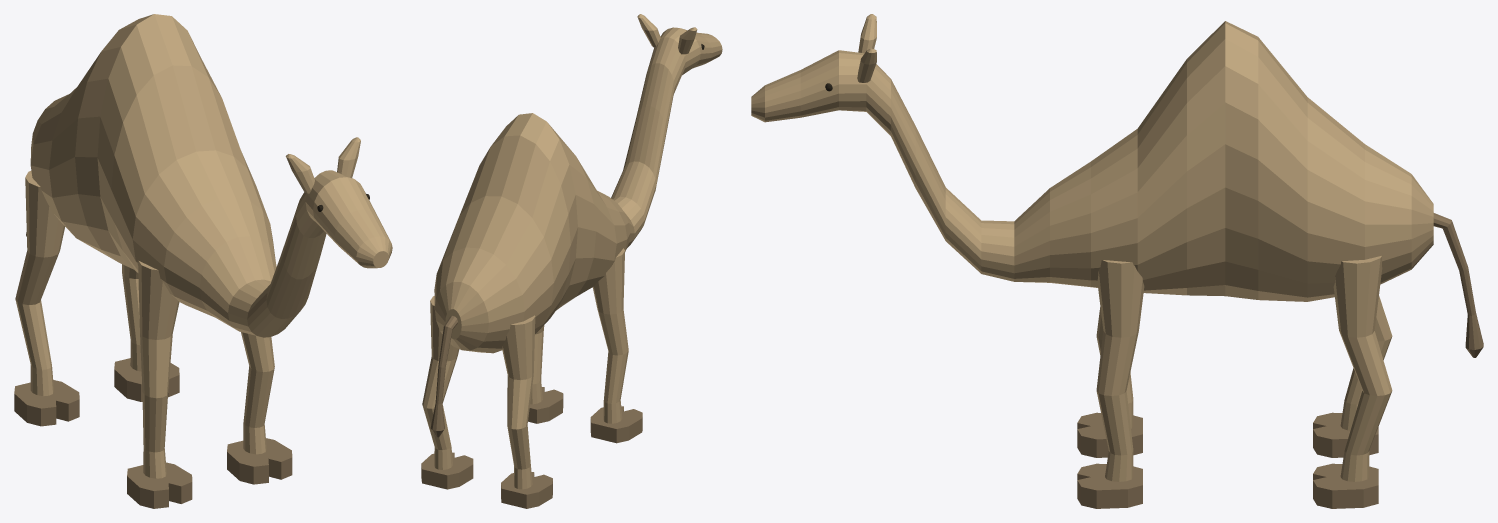
3 views of the same model, side by side, from view 1: azimuth 30°, elevation 25°; view 2: azimuth 150°, elevation 25°; view 3: azimuth 270°, elevation 25° (orthographic). The views are drawn at different scales.
Parts seen in each view (by area): view 1: WholeSingleHumpTorsoSweptNeckAndLongHead, WholeLongJointShapedForeLeg0, WholeLongJointShapedHindLeg0, WholeLongJointShapedForeLeg1, WholeBroadTwoLobedHindPad0, WholeBroadTwoLobedForePad0, WholeBroadTwoLobedForePad1, WholeLongJointShapedHindLeg1, WholeBroadTwoLobedHindPad1, WholeSmallThickEar1, WholeSmallThickEar0; view 2: WholeSingleHumpTorsoSweptNeckAndLongHead, WholeLongJointShapedHindLeg0, WholeLongJointShapedForeLeg0, WholeLongJointShapedHindLeg1, WholeBroadTwoLobedHindPad1, WholeBroadTwoLobedForePad0, WholeBroadTwoLobedHindPad0, WholeHangingTaperedTailAndTuft, WholeBroadTwoLobedForePad1, WholeLongJointShapedForeLeg1, WholeSmallThickEar1, WholeSmallThickEar0; view 3: WholeSingleHumpTorsoSweptNeckAndLongHead, WholeLongJointShapedHindLeg1, WholeLongJointShapedForeLeg1, WholeBroadTwoLobedForePad1, WholeBroadTwoLobedHindPad1, WholeHangingTaperedTailAndTuft, WholeBroadTwoLobedForePad0, WholeBroadTwoLobedHindPad0, WholeLongJointShapedHindLeg0.
Boxes of the visible parts, x1,y1,x2,y2 form: WholeSingleHumpTorsoSweptNeckAndLongHead: [30, 14, 392, 337]; WholeLongJointShapedForeLeg0: [138, 261, 179, 478]; WholeLongJointShapedHindLeg0: [15, 171, 65, 396]; WholeLongJointShapedForeLeg1: [241, 332, 274, 454]; WholeBroadTwoLobedHindPad0: [14, 380, 79, 426]; WholeBroadTwoLobedForePad0: [127, 462, 192, 508]; WholeBroadTwoLobedForePad1: [227, 438, 292, 484]; WholeLongJointShapedHindLeg1: [122, 264, 141, 371]; WholeBroadTwoLobedHindPad1: [114, 358, 179, 401]; WholeSmallThickEar1: [337, 137, 360, 177]; WholeSmallThickEar0: [285, 154, 314, 193]; WholeSingleHumpTorsoSweptNeckAndLongHead: [434, 27, 722, 353]; WholeLongJointShapedHindLeg0: [502, 315, 535, 489]; WholeLongJointShapedForeLeg0: [592, 248, 628, 423]; WholeLongJointShapedHindLeg1: [422, 296, 459, 469]; WholeBroadTwoLobedHindPad1: [421, 452, 473, 489]; WholeBroadTwoLobedForePad0: [590, 406, 642, 443]; WholeBroadTwoLobedHindPad0: [501, 472, 552, 508]; WholeHangingTaperedTailAndTuft: [430, 316, 457, 437]; WholeBroadTwoLobedForePad1: [528, 387, 563, 423]; WholeLongJointShapedForeLeg1: [530, 325, 544, 404]; WholeSmallThickEar1: [637, 14, 660, 47]; WholeSmallThickEar0: [678, 27, 697, 54]; WholeSingleHumpTorsoSweptNeckAndLongHead: [751, 21, 1433, 301]; WholeLongJointShapedHindLeg1: [1333, 256, 1392, 481]; WholeLongJointShapedForeLeg1: [1096, 260, 1144, 481]; WholeBroadTwoLobedForePad1: [1077, 463, 1142, 508]; WholeBroadTwoLobedHindPad1: [1313, 463, 1378, 508]; WholeHangingTaperedTailAndTuft: [1433, 213, 1483, 357]; WholeBroadTwoLobedForePad0: [1077, 412, 1142, 457]; WholeBroadTwoLobedHindPad0: [1313, 412, 1378, 457]; WholeLongJointShapedHindLeg0: [1340, 296, 1392, 430].
Bounding box in the file's own units: 0.67 × 1.8 × 2.67.
